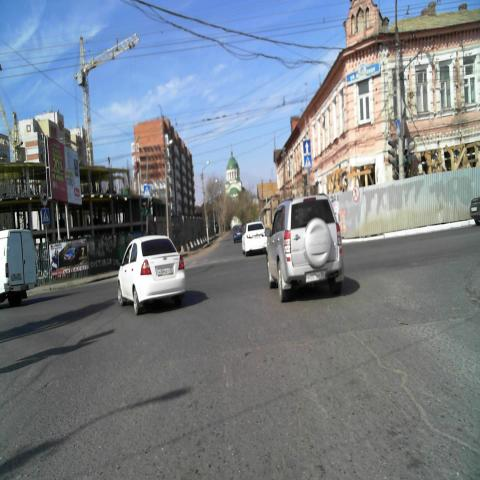3_10: (353, 185, 359, 202)
3_4_1: (41, 192, 48, 207)
5_19_1: (394, 118, 402, 136), (304, 153, 312, 170), (41, 208, 49, 224), (142, 184, 149, 198)
5_5: (303, 140, 310, 154)
